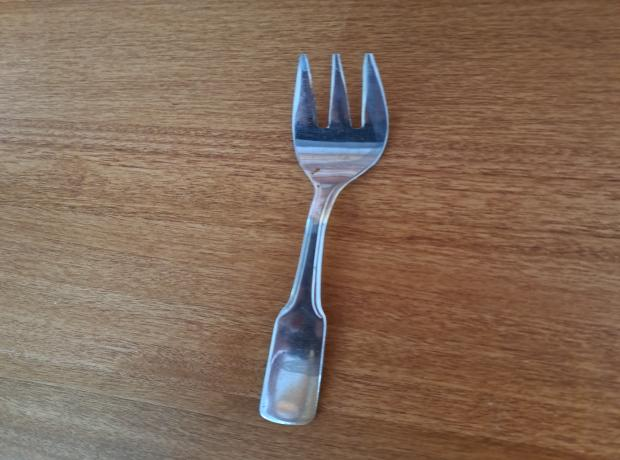metal: (252, 56, 388, 427)
